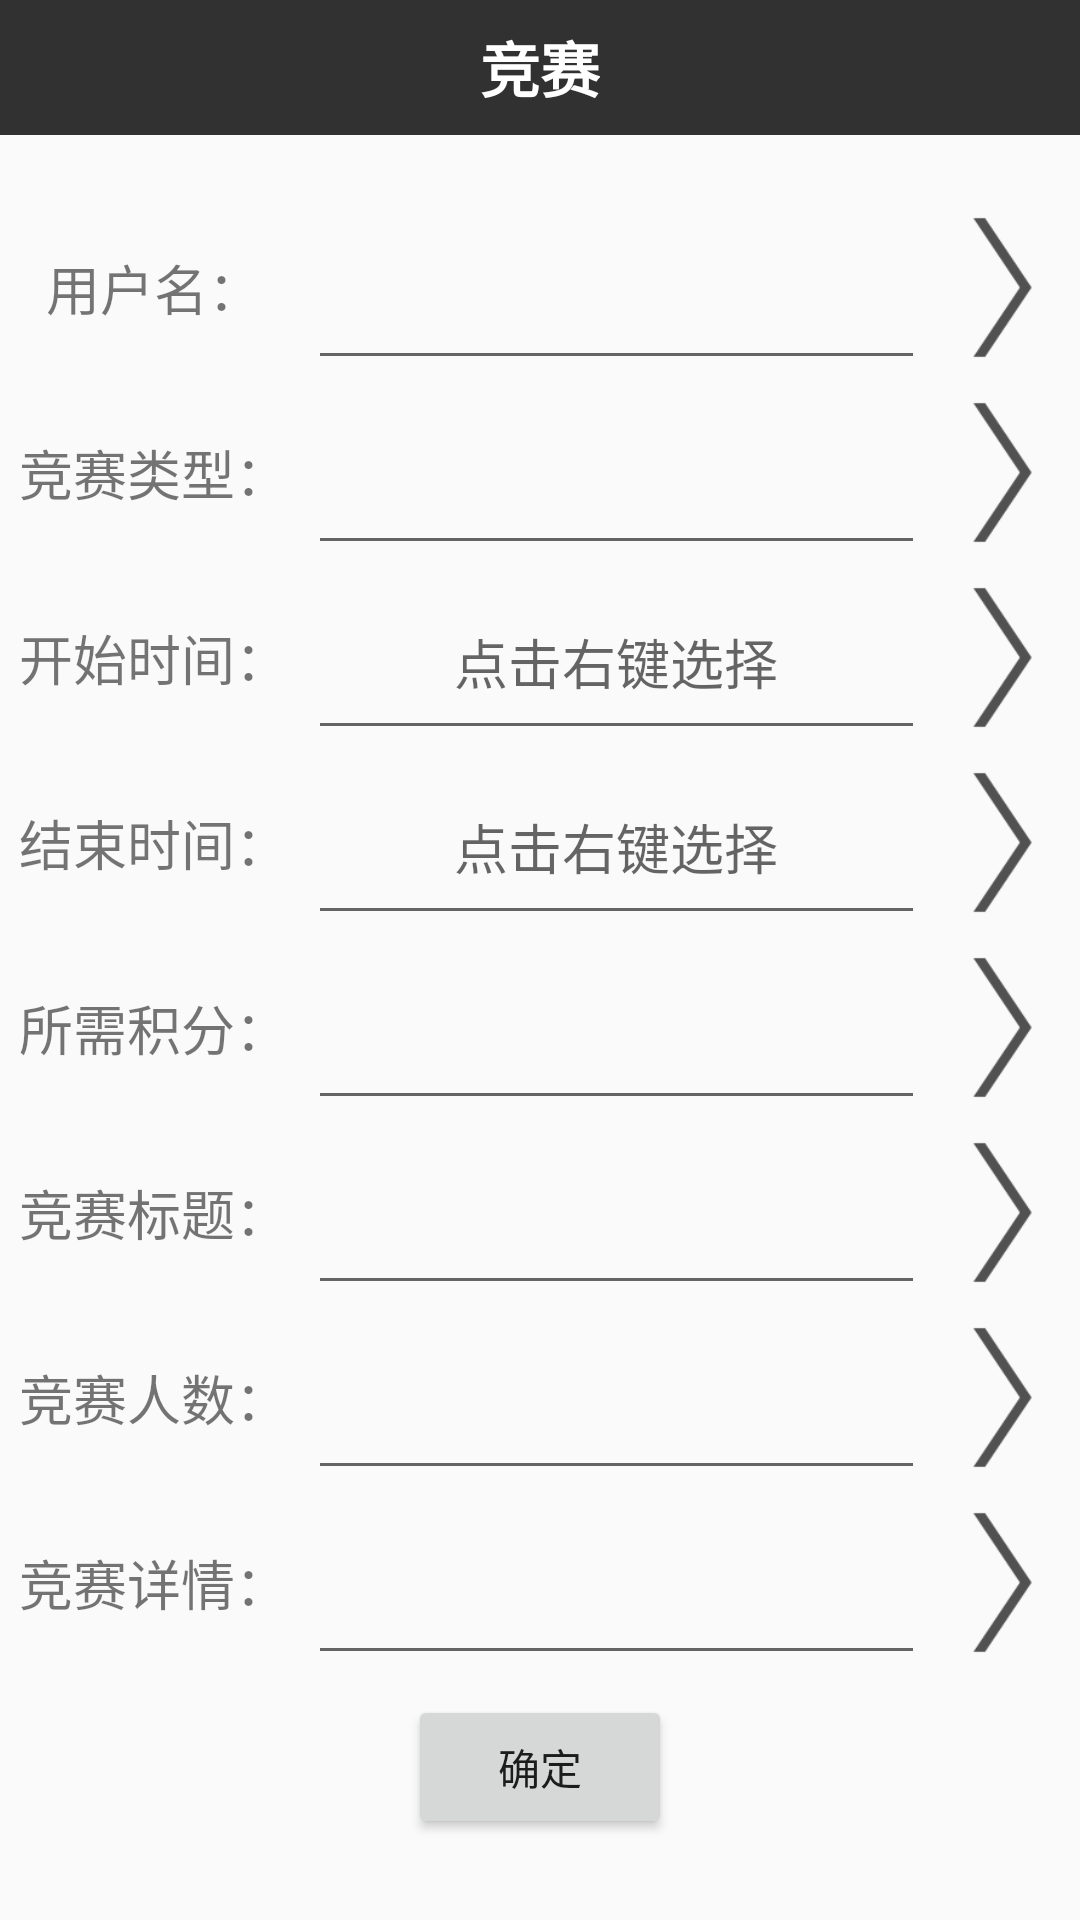

Icons on this 1080px×1920px Android screen, each with its box as box=[x1, y1, x2, y2]:
nextpage: box=[973, 218, 1032, 357], box=[973, 403, 1032, 542], box=[973, 588, 1032, 727], box=[973, 773, 1032, 912], box=[973, 958, 1032, 1097], box=[973, 1143, 1032, 1282], box=[973, 1328, 1032, 1467], box=[973, 1513, 1032, 1652]
